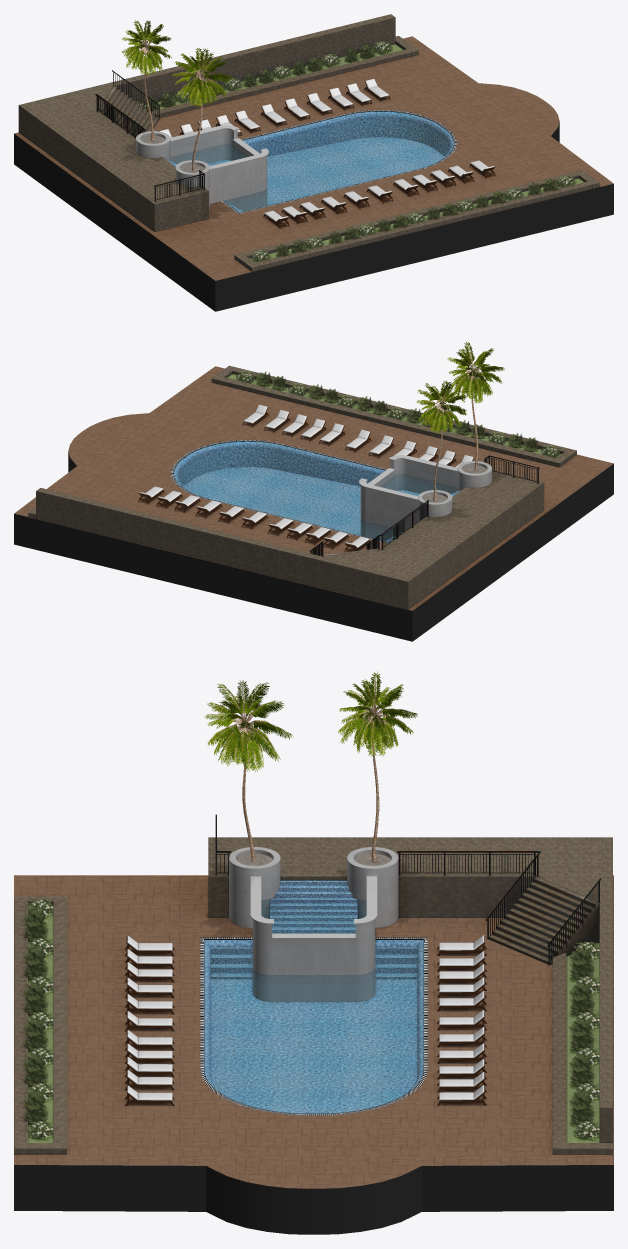
The model's file is swimming_pool.glb.
3 views of the same model, one above another, from view 1: azimuth 30°, elevation 25°; view 2: azimuth 150°, elevation 25°; view 3: azimuth 270°, elevation 25° (orthographic). The views are drawn at different scales.
Parts seen in each view (by area): view 1: floor_3, kamani_4, floor.002_10, 00baked_baesin_2, voda_0, SAKSIA_6, Bush-01.010_7, SUNBEDS_9, Tree_0_palm02_0_8, Plane.001_1; view 2: kamani_4, floor_3, floor.002_10, 00baked_baesin_2, voda_0, SAKSIA_6, SUNBEDS_9, Tree_0_palm02_0_8, Bush-01.010_7, Plane.001_1; view 3: floor_3, kamani_4, voda_0, floor.002_10, 00baked_baesin_2, SAKSIA_6, SUNBEDS_9, Bush-01.010_7, Tree_0_palm02_0_8, stalbi_5, Plane.001_1.
Part boxes in pixels (<box>): floor_3: <box>14,36,613,280</box>; kamani_4: <box>18,14,599,271</box>; floor.002_10: <box>14,121,613,311</box>; 00baked_baesin_2: <box>224,111,453,212</box>; voda_0: <box>174,119,449,211</box>; SAKSIA_6: <box>136,125,268,211</box>; Bush-01.010_7: <box>136,41,576,262</box>; SUNBEDS_9: <box>159,79,495,228</box>; Tree_0_palm02_0_8: <box>122,20,232,170</box>; Plane.001_1: <box>221,110,457,213</box>; kamani_4: <box>28,365,576,609</box>; floor_3: <box>14,366,613,610</box>; floor.002_10: <box>14,451,613,641</box>; 00baked_baesin_2: <box>174,441,403,542</box>; voda_0: <box>178,449,452,539</box>; SAKSIA_6: <box>359,455,492,541</box>; SUNBEDS_9: <box>138,404,473,552</box>; Tree_0_palm02_0_8: <box>416,342,504,500</box>; Bush-01.010_7: <box>235,370,560,457</box>; Plane.001_1: <box>171,440,395,543</box>; floor_3: <box>14,875,613,1188</box>; kamani_4: <box>14,814,612,1154</box>; voda_0: <box>210,908,417,1112</box>; floor.002_10: <box>14,1165,613,1234</box>; 00baked_baesin_2: <box>204,940,423,1113</box>; SAKSIA_6: <box>229,847,398,1001</box>; SUNBEDS_9: <box>124,935,486,1105</box>; Bush-01.010_7: <box>22,898,599,1139</box>; Tree_0_palm02_0_8: <box>204,671,417,862</box>; stalbi_5: <box>210,880,417,979</box>; Plane.001_1: <box>200,937,427,1115</box>.
Bounding box in the file's own units: 28.75 × 11.98 × 23.25.
Materials: 23 (19 with a texture image).
